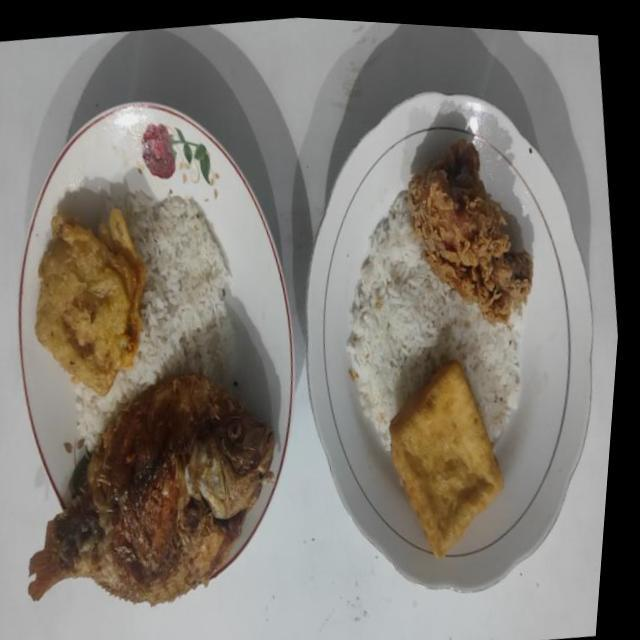ikan_mujair: (30, 375, 274, 604)
nasi_putih: (347, 190, 522, 450), (75, 190, 238, 450)
tahu_goreng: (389, 361, 504, 558)
